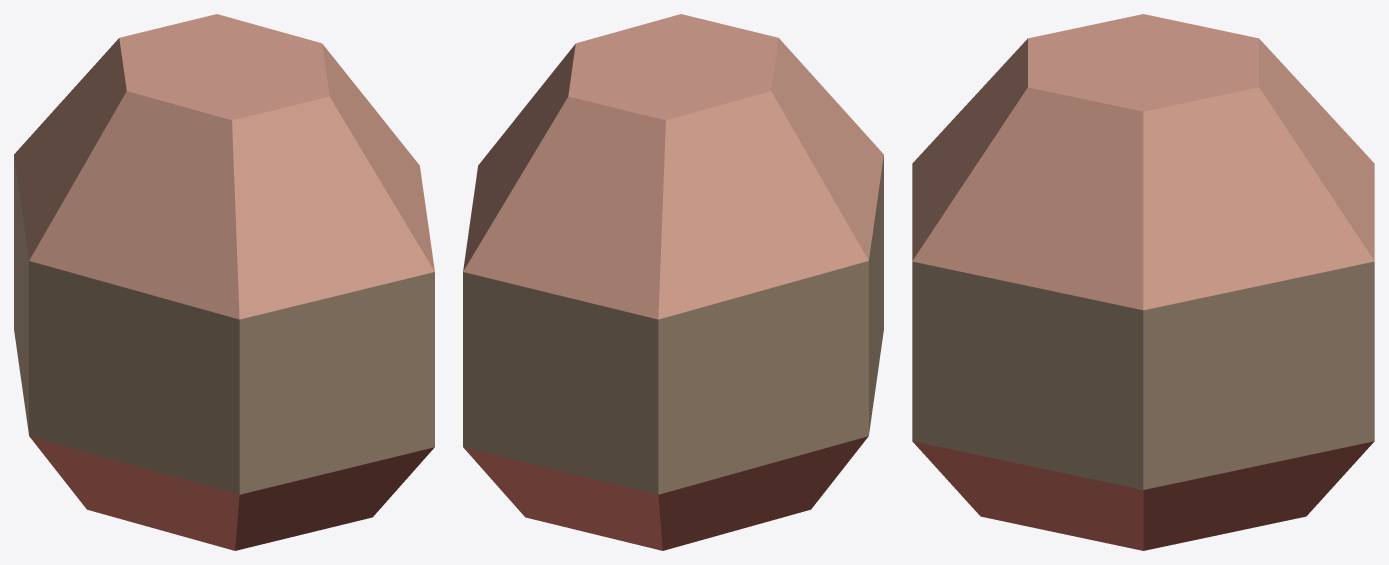
The model's file is egg.glb.
3 renders of one model, left to right at view 1: azimuth 30°, elevation 25°; view 2: azimuth 150°, elevation 25°; view 3: azimuth 270°, elevation 25°, orthographic. The views are drawn at different scales.
Bounding box in the file's own units: 1 × 1 × 1.
